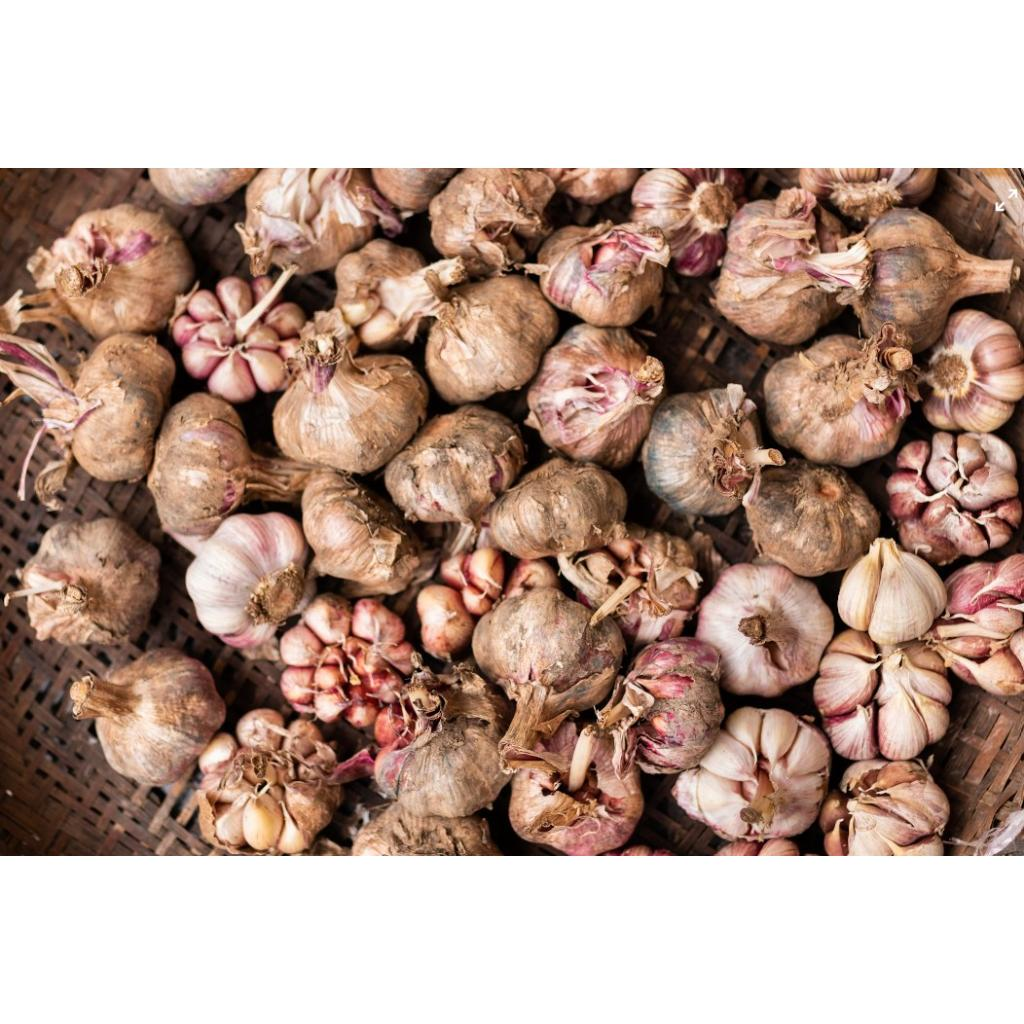garlic: (276, 168, 668, 523), (76, 647, 344, 852), (472, 588, 624, 772), (714, 188, 872, 344), (854, 208, 1020, 351), (148, 392, 310, 536), (26, 204, 194, 339), (764, 324, 918, 465), (376, 658, 512, 817), (672, 708, 832, 840), (642, 384, 784, 516), (696, 564, 834, 696), (886, 432, 1022, 565), (814, 628, 952, 758), (236, 168, 402, 274), (35, 513, 166, 642), (186, 512, 306, 647), (70, 332, 176, 482), (746, 458, 880, 576), (302, 470, 420, 594), (173, 281, 295, 400), (620, 638, 724, 773), (490, 458, 626, 558), (838, 538, 946, 646), (840, 760, 950, 856), (976, 364, 1024, 401), (820, 798, 842, 849)
